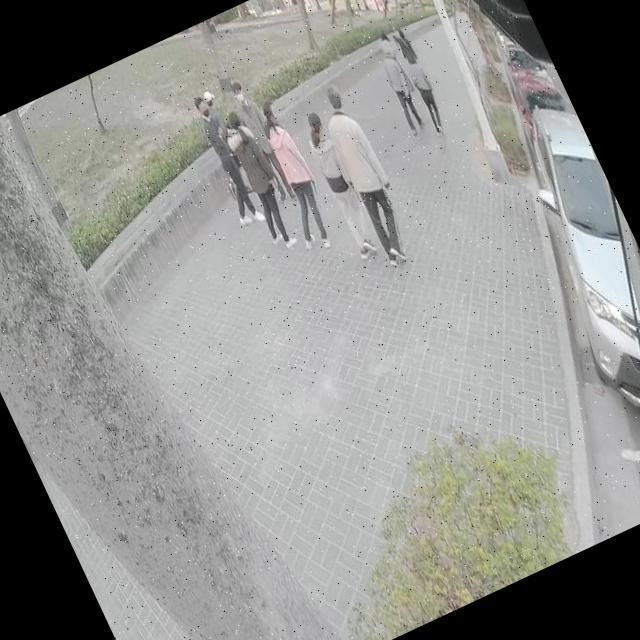person: (308, 75, 422, 268), (242, 94, 340, 256), (292, 106, 383, 260), (217, 110, 301, 252), (184, 91, 264, 228), (226, 78, 298, 202), (374, 43, 430, 134), (400, 51, 450, 133), (197, 86, 224, 127), (389, 25, 417, 61), (378, 26, 394, 52)
